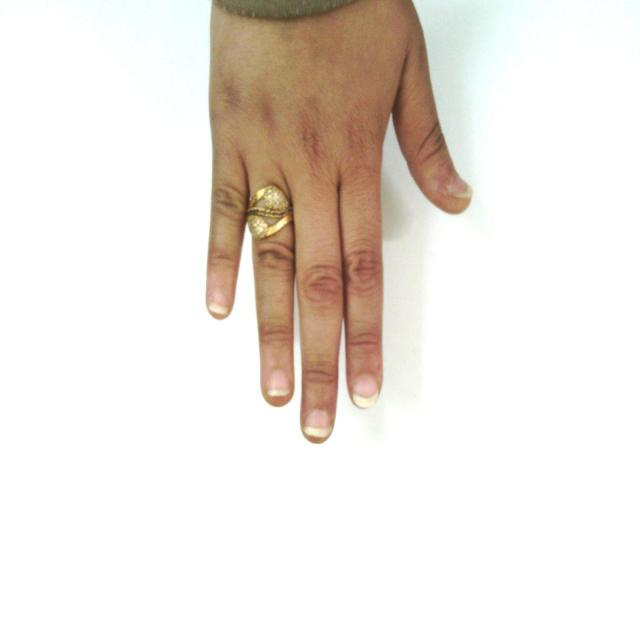Fingernail: (352, 374, 378, 408), (305, 410, 331, 436), (267, 369, 290, 396), (449, 174, 473, 197), (209, 292, 229, 314)
